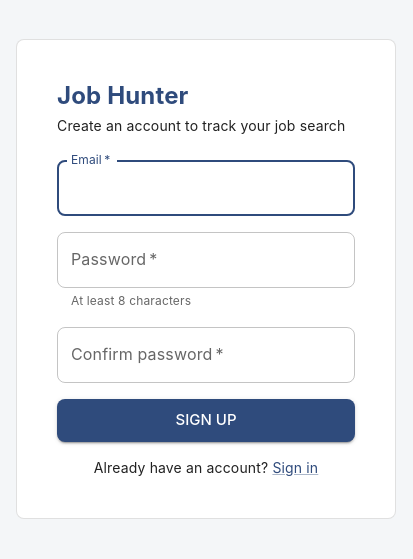
Test: sign up validation › reports every problem before sending anything
The width and height of the screenshot is (413, 559).
Step 1. Click the button "Sign up" → (206, 420), box left=57, top=399, right=355, bottom=442
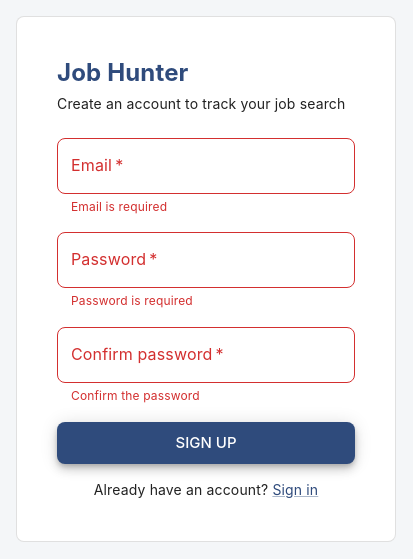
Now the text "Email is required" is shown, box left=71, top=198, right=167, bottom=214
Now the text "Password is required" is shown, box left=71, top=293, right=193, bottom=308
Now the text "Confirm the password" is shown, box left=71, top=388, right=200, bottom=403
